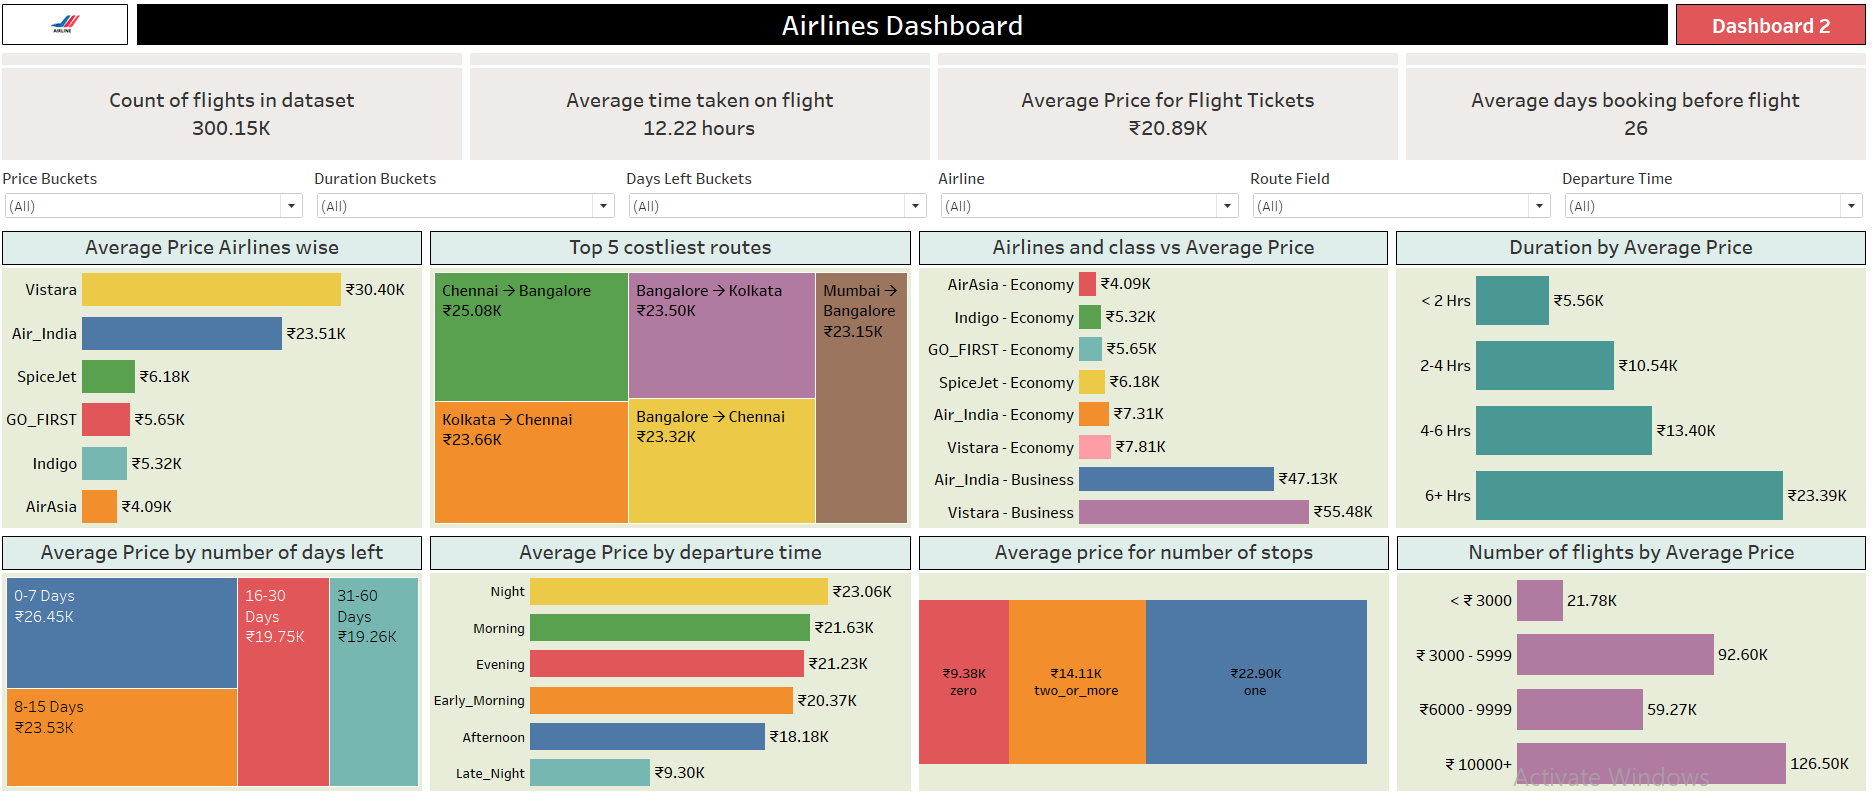

What the dashboard file says about the page in this screenshot:
{"tool":"tableau","page":{"name":"Dashboard 1","canvas":[1000,1000],"units":"permille","ordinal":0},"visuals":[{"type":"image","param":"Image/istockphoto-1266129229-612x612.jpg","box":[4.8,9.9,71.2,60.4]},{"type":"text","box":[76,9.9,814.4,60.4]},{"type":"dashboard-object","box":[890.4,9.9,104.8,60.4]},{"type":"worksheet","title":"Count","mark":"Automatic","box":[4.8,70.3,247.6,141.8]},{"type":"worksheet","title":"Average time","mark":"Automatic","box":[252.4,70.3,247.6,141.8]},{"type":"worksheet","title":"Average price","mark":"Automatic","box":[500,70.3,247.6,141.8]},{"type":"worksheet","title":"Average days","mark":"Automatic","box":[747.6,70.3,247.6,141.8]},{"type":"filter","title":"Distribution of flight prices","param":"[federated.1hxg1hu1w1tkyj144zght1nakg02].[none:Calculation_449515595441553412:nk","box":[4.8,212.1,165.4,77.7]},{"type":"filter","title":"Duration by avg price","param":"[federated.1hxg1hu1w1tkyj144zght1nakg02].[none:Calculation_449515595438612481:nk","box":[170.2,212.1,165.4,77.7]},{"type":"filter","title":"Average price by days","param":"[federated.1hxg1hu1w1tkyj144zght1nakg02].[none:Calculation_449515595441410051:nk","box":[335.6,212.1,165.4,77.7]},{"type":"filter","title":"Average Price for ailines","param":"[federated.1hxg1hu1w1tkyj144zght1nakg02].[none:airline:nk]","box":[500.9,212.1,164.8,77.7]},{"type":"filter","title":"Top 5 costliest routes","param":"[federated.1hxg1hu1w1tkyj144zght1nakg02].[none:Calculation_449515595441954821:nk","box":[665.7,212.1,164.8,77.7]},{"type":"filter","title":"average price by dep time","param":"[federated.1hxg1hu1w1tkyj144zght1nakg02].[none:departure_time:nk]","box":[830.4,212.1,164.8,77.7]},{"type":"worksheet","title":"Average Price for ailines","mark":"Automatic","rows":["airline"],"cols":["price"],"box":[4.8,289.8,226.3,376.1]},{"type":"worksheet","title":"Top 5 costliest routes","mark":"Automatic","box":[231.1,289.8,258.9,376.1]},{"type":"worksheet","title":"Airline class vs avg price","mark":"Automatic","rows":["Calculation_449515595442077702"],"cols":["price"],"box":[490,289.8,252.6,376.1]},{"type":"worksheet","title":"Duration by avg price","mark":"Automatic","rows":["Calculation_449515595438612481"],"cols":["price"],"box":[742.6,289.8,252.6,376.1]},{"type":"worksheet","title":"Average price by days","mark":"Automatic","box":[4.8,665.8,226.3,324.3]},{"type":"worksheet","title":"average price by dep time","mark":"Automatic","rows":["departure_time"],"cols":["price"],"box":[231.1,665.8,258.9,324.3]},{"type":"worksheet","title":"Stops impact - price","mark":"Automatic","cols":["price"],"box":[490,665.8,252.9,324.3]},{"type":"worksheet","title":"Distribution of flight prices","mark":"Automatic","rows":["Calculation_449515595441553412"],"cols":["index"],"box":[742.9,665.8,252.3,324.3]}]}

Visuals, with their boxes on the dashboard's canvas, which has no fixed pixel size, in thousandths of its width and height (x1, y1, x2, y2). These are canvas units, not pixel positions in the 1872x795 screenshot, which may show the page scaled, cropped or inside an application window:
image: bbox=[5, 10, 76, 70]
text: bbox=[76, 10, 890, 70]
dashboard-object: bbox=[890, 10, 995, 70]
"Count" worksheet: bbox=[5, 70, 252, 212]
"Average time" worksheet: bbox=[252, 70, 500, 212]
"Average price" worksheet: bbox=[500, 70, 748, 212]
"Average days" worksheet: bbox=[748, 70, 995, 212]
"Distribution of flight prices" filter: bbox=[5, 212, 170, 290]
"Duration by avg price" filter: bbox=[170, 212, 336, 290]
"Average price by days" filter: bbox=[336, 212, 501, 290]
"Average Price for ailines" filter: bbox=[501, 212, 666, 290]
"Top 5 costliest routes" filter: bbox=[666, 212, 830, 290]
"average price by dep time" filter: bbox=[830, 212, 995, 290]
"Average Price for ailines" worksheet: bbox=[5, 290, 231, 666]
"Top 5 costliest routes" worksheet: bbox=[231, 290, 490, 666]
"Airline class vs avg price" worksheet: bbox=[490, 290, 743, 666]
"Duration by avg price" worksheet: bbox=[743, 290, 995, 666]
"Average price by days" worksheet: bbox=[5, 666, 231, 990]
"average price by dep time" worksheet: bbox=[231, 666, 490, 990]
"Stops impact - price" worksheet: bbox=[490, 666, 743, 990]
"Distribution of flight prices" worksheet: bbox=[743, 666, 995, 990]
